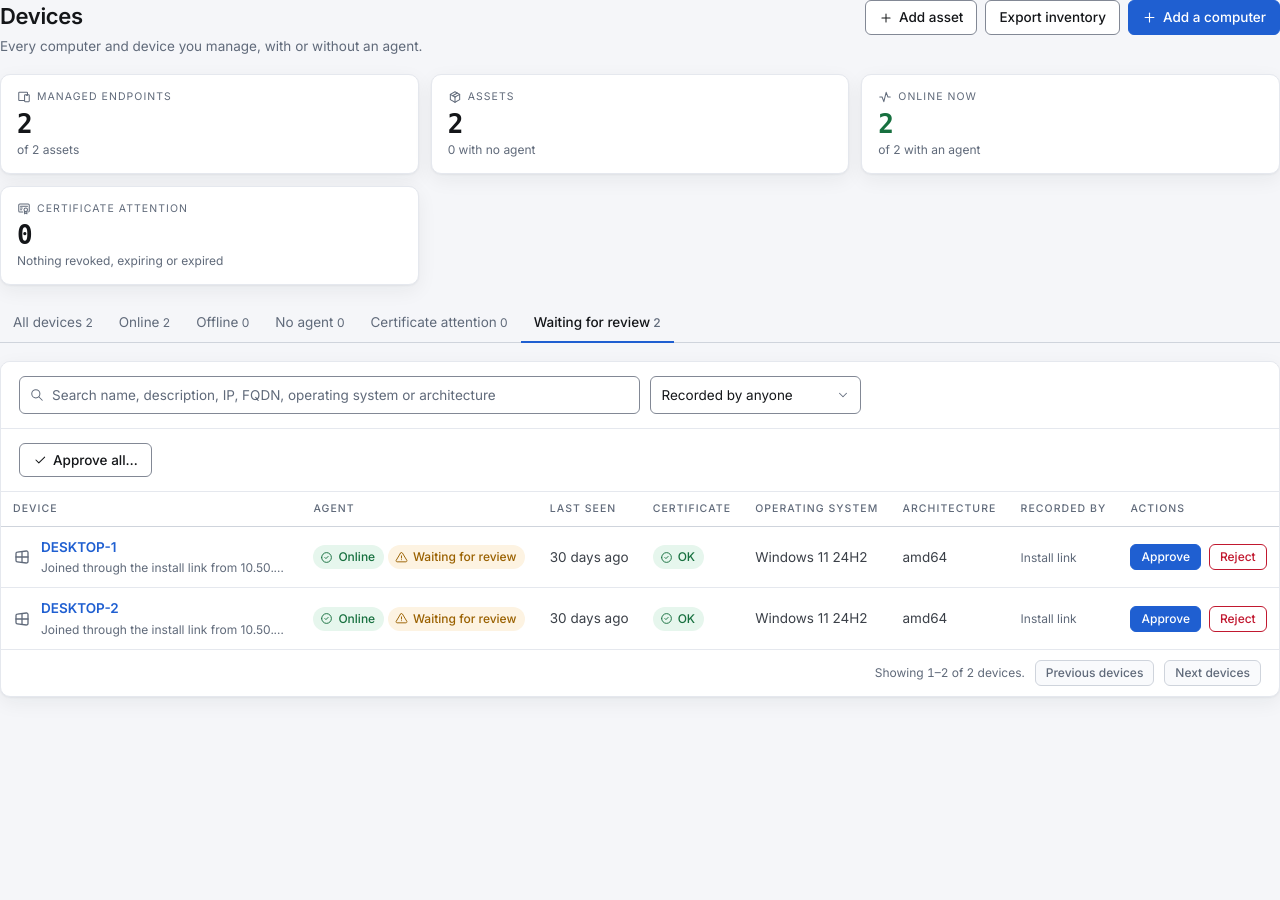
Scenario: Approve all on Devices › forgets the list on close, so opening again shows a fresh one
Click the button "Approve all…" at (85, 460), box left=19, top=443, right=152, bottom=477
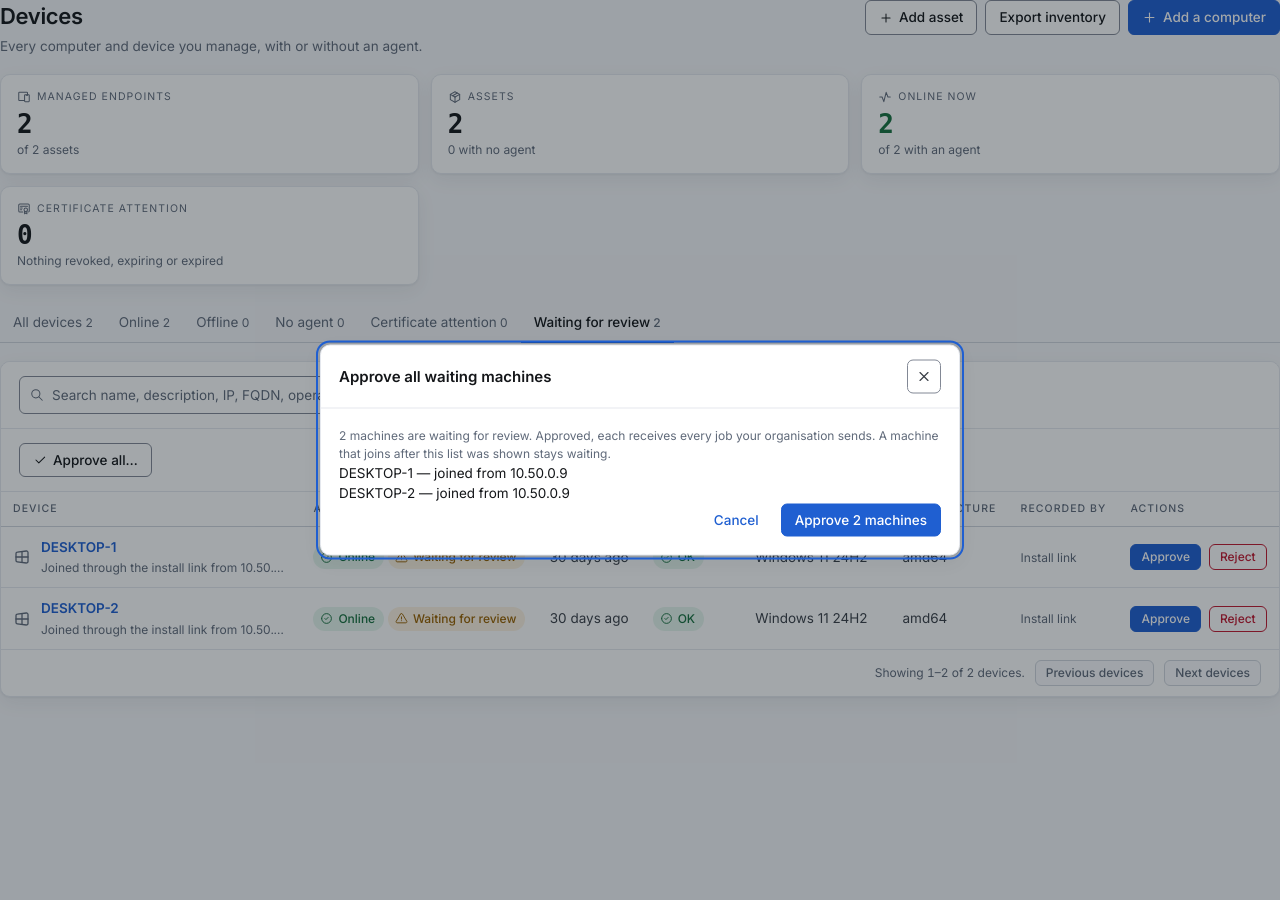
Check: the list named "Machines to approve" is shown, box left=339, top=464, right=570, bottom=501
Check: the button "Approve 2 machines" is shown, box left=781, top=503, right=941, bottom=536
Click the button "Cancel" at (736, 520), box left=700, top=503, right=773, bottom=536
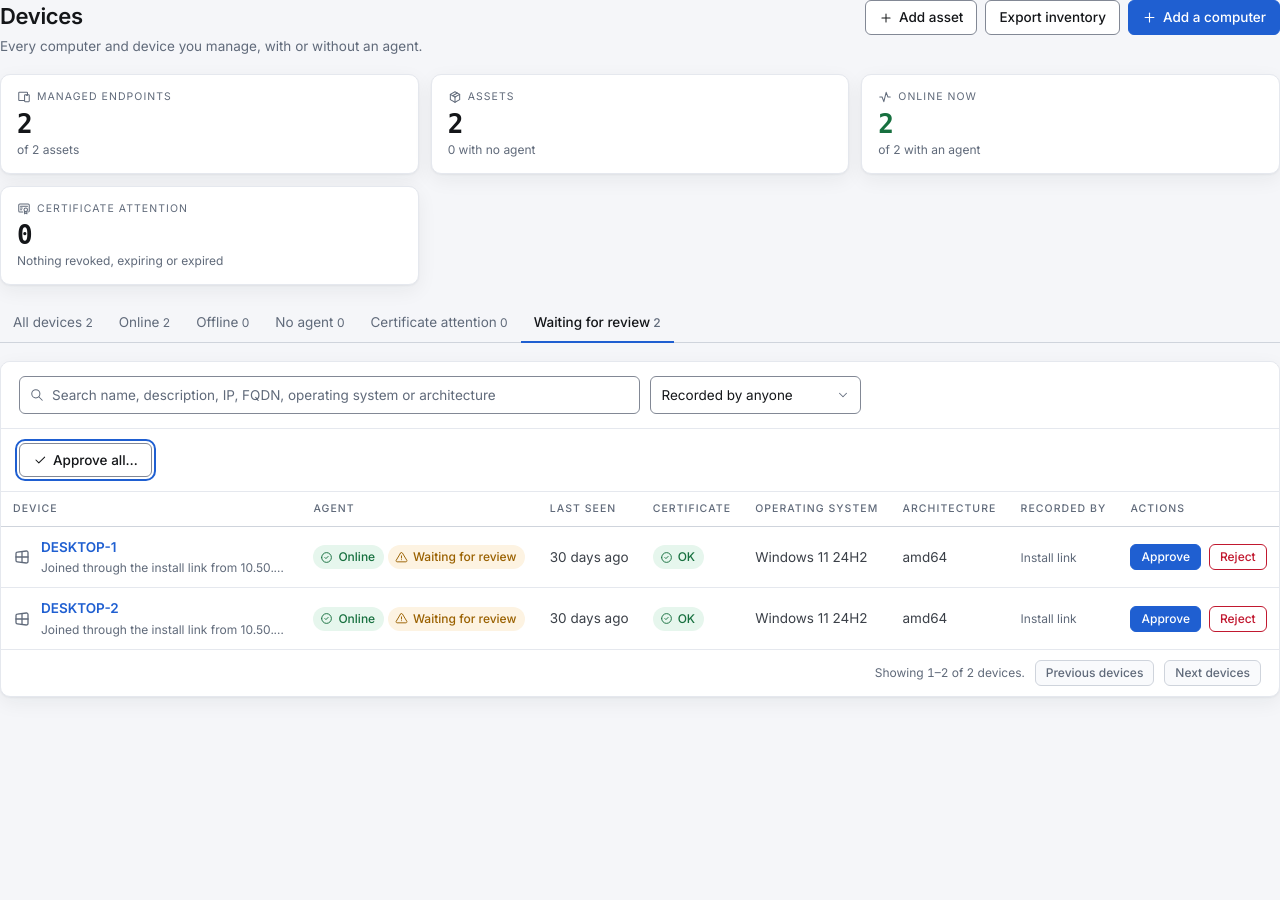
Check: the dialog is gone
Click the button "Approve all…" at (85, 460), box left=19, top=443, right=152, bottom=477
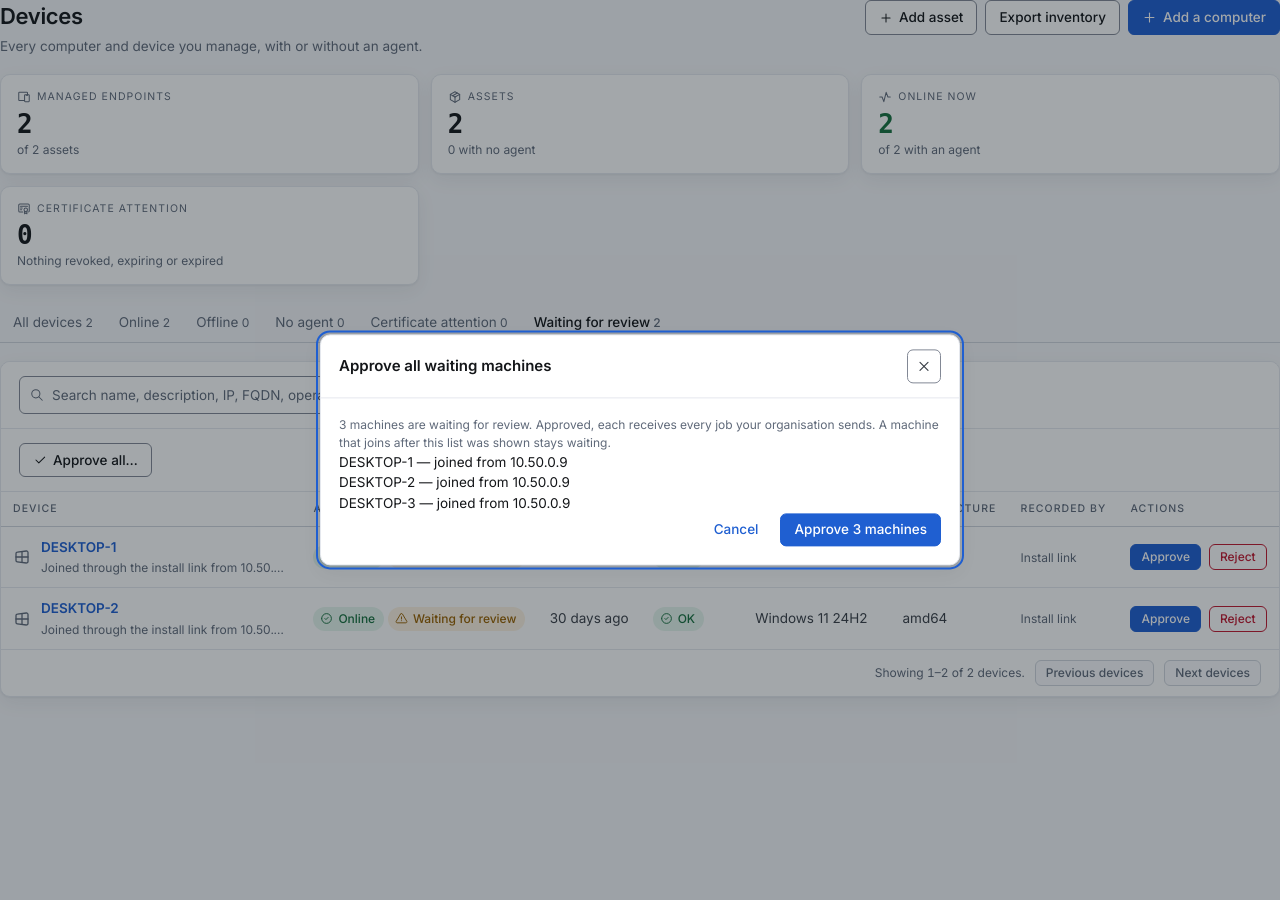
Check: the button "Approve 3 machines" is shown, box left=780, top=513, right=941, bottom=547
